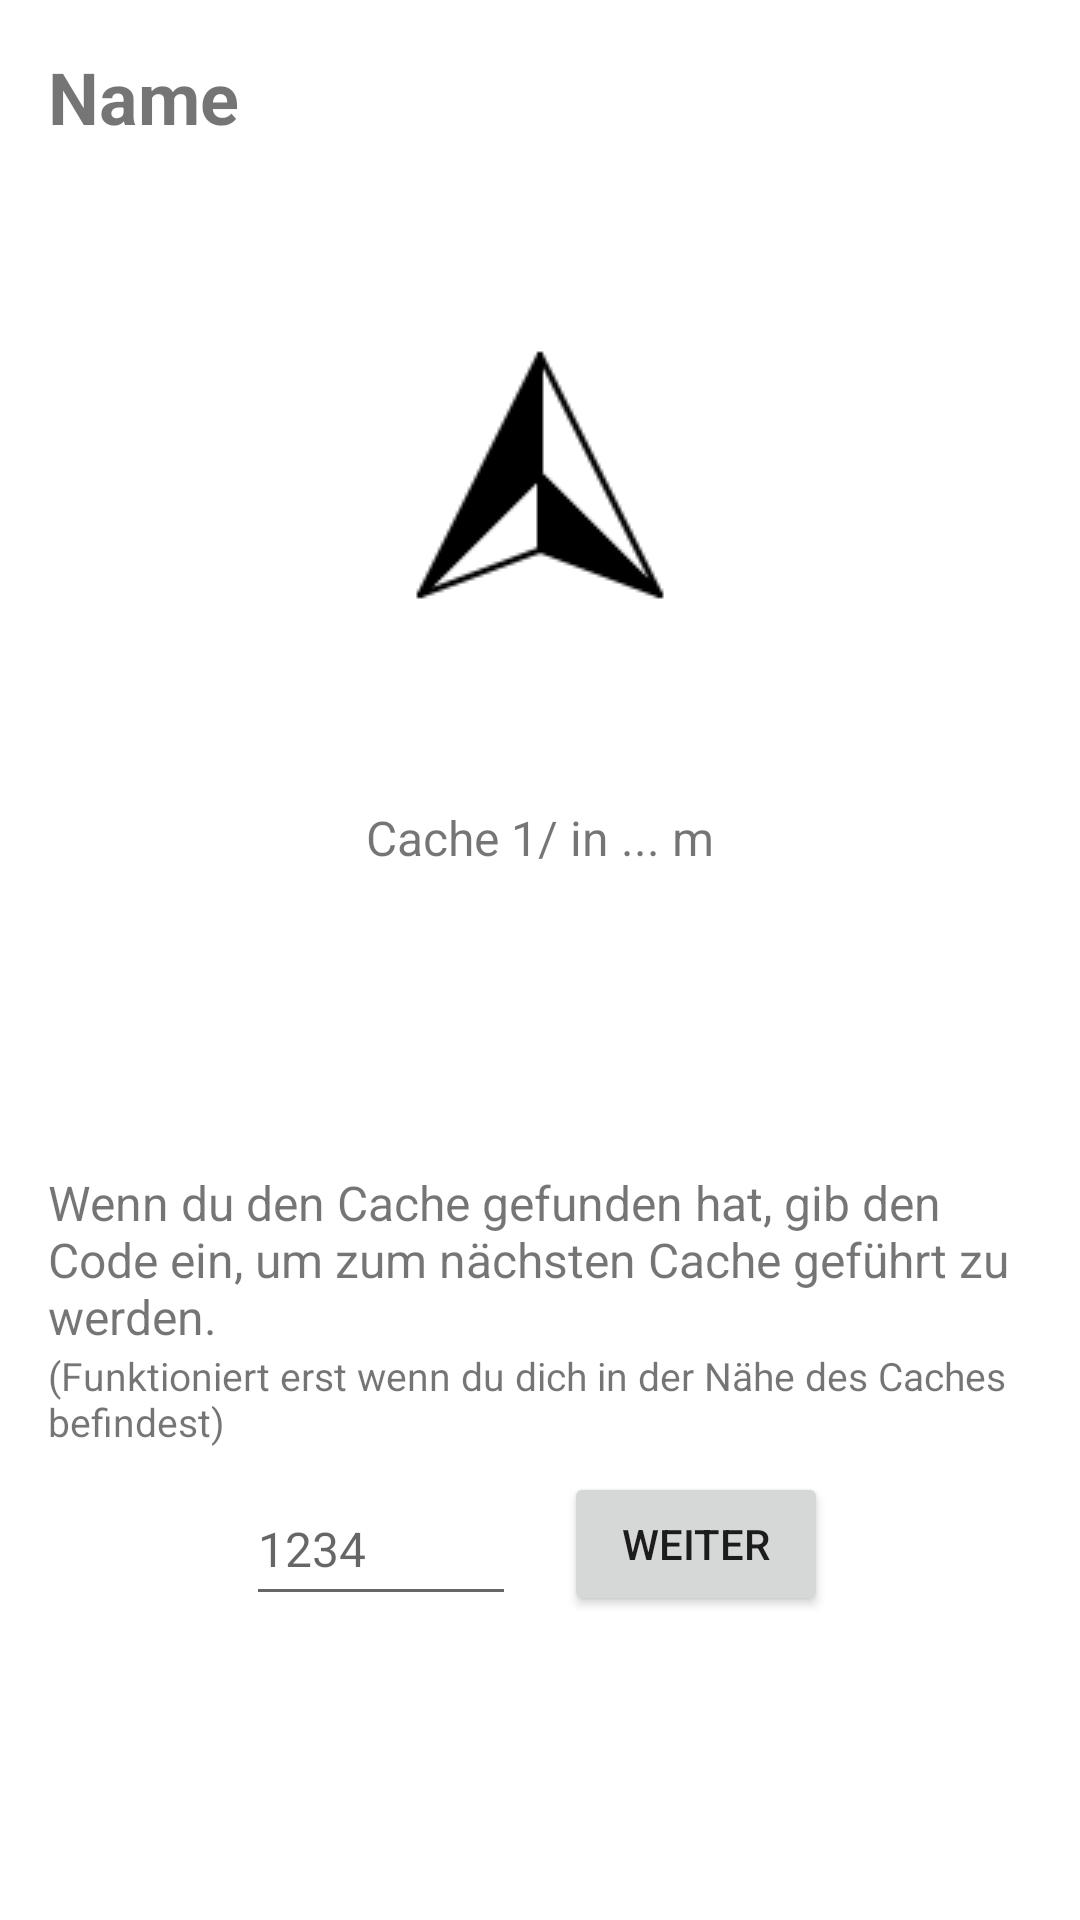

Icons on this 1080 x 1920 Android screen, each with its box as region(x1, y1, x2, y2):
arrow north: region(416, 351, 664, 599)
